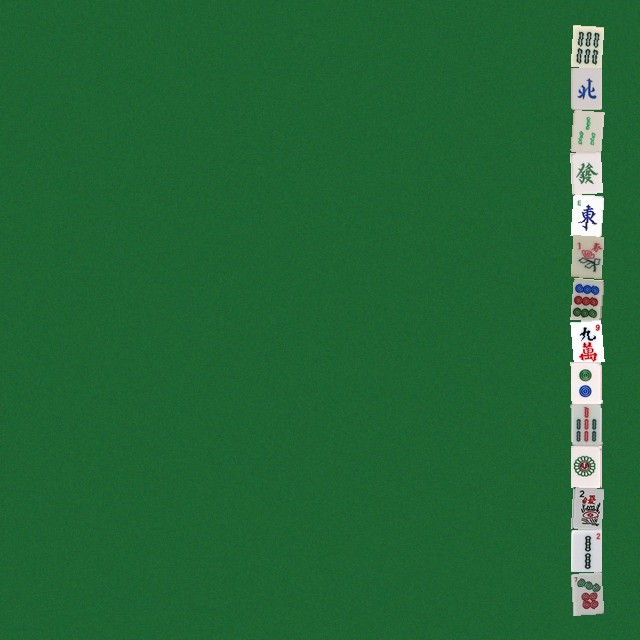tile: (570, 25, 601, 67), (570, 67, 601, 109), (570, 109, 601, 151), (570, 151, 601, 193), (570, 193, 601, 235), (570, 235, 601, 277), (570, 277, 601, 319), (570, 319, 601, 361), (570, 361, 601, 403), (570, 403, 601, 445), (570, 445, 601, 487), (570, 487, 601, 529), (570, 529, 601, 571), (570, 571, 601, 613)
